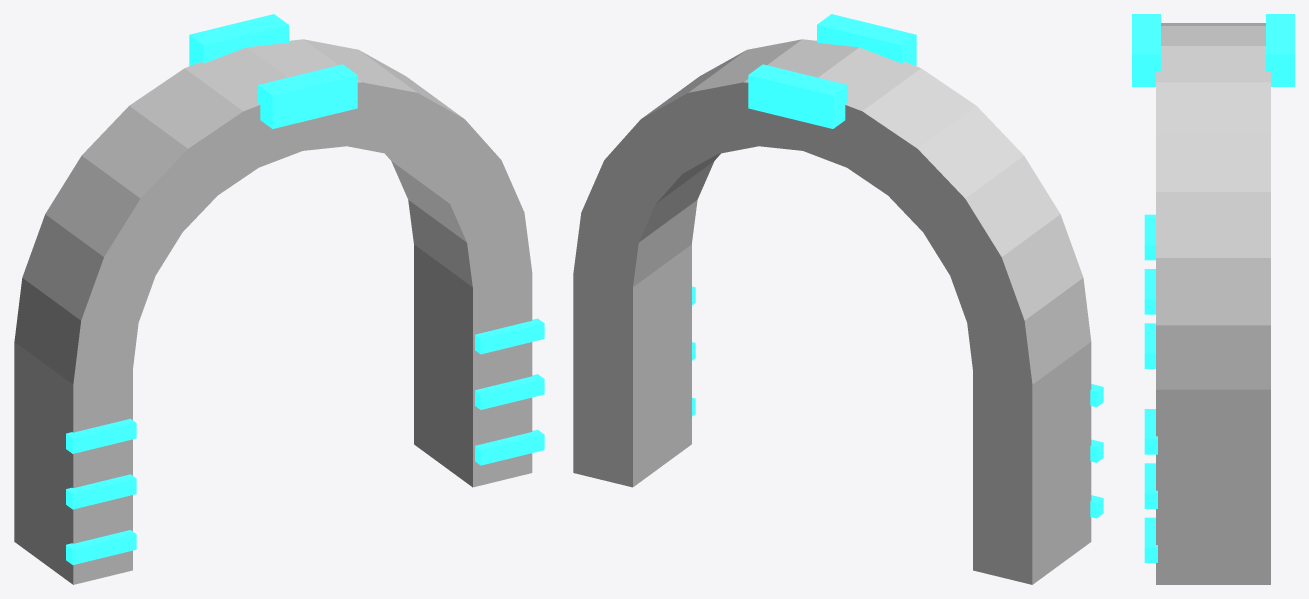
3 views of the same model, side by side, from view 1: azimuth 30°, elevation 25°; view 2: azimuth 150°, elevation 25°; view 3: azimuth 270°, elevation 25° (orthographic). The views are drawn at different scales.
Parts seen in each view (by area): view 1: Neon_ArchGate_Standard; view 2: Neon_ArchGate_Standard; view 3: Neon_ArchGate_Standard.
Part boxes in pixels (x1=…): Neon_ArchGate_Standard: x1=14, y1=14, x2=544, y2=584; Neon_ArchGate_Standard: x1=573, y1=14, x2=1103, y2=584; Neon_ArchGate_Standard: x1=1132, y1=14, x2=1294, y2=584.
Size of the model in its own units: 2.22 by 2.04 by 0.68.
